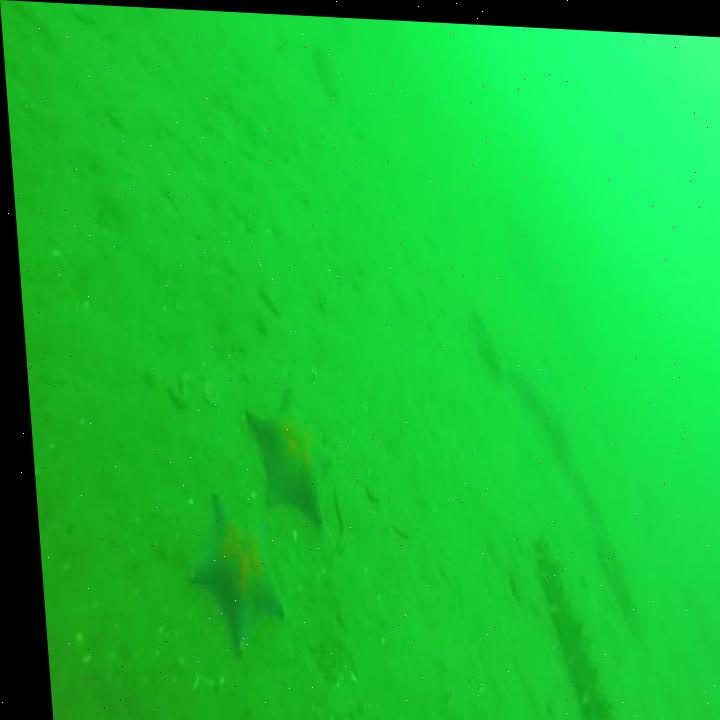holothurian: (508, 363, 640, 633), (526, 532, 609, 720)
scallop: (197, 375, 217, 404)
starfish: (173, 490, 278, 648), (232, 378, 333, 528)
